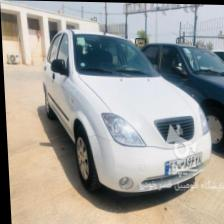plate: (162, 148, 200, 175)
